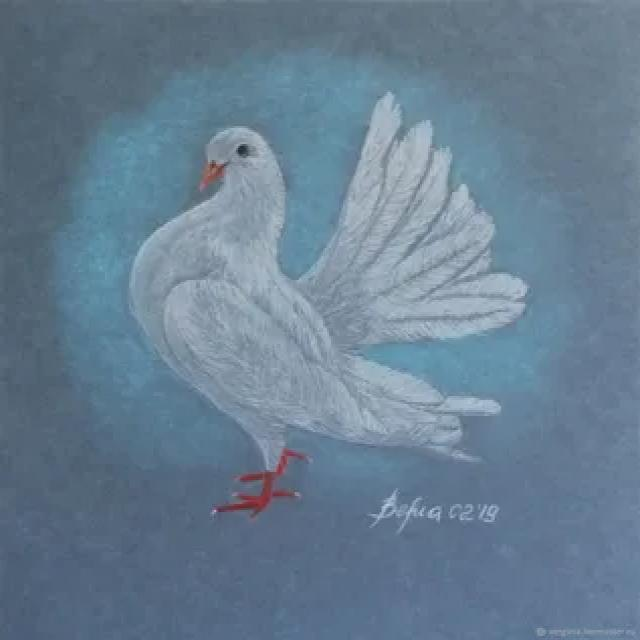pigeon: (101, 82, 530, 527)
